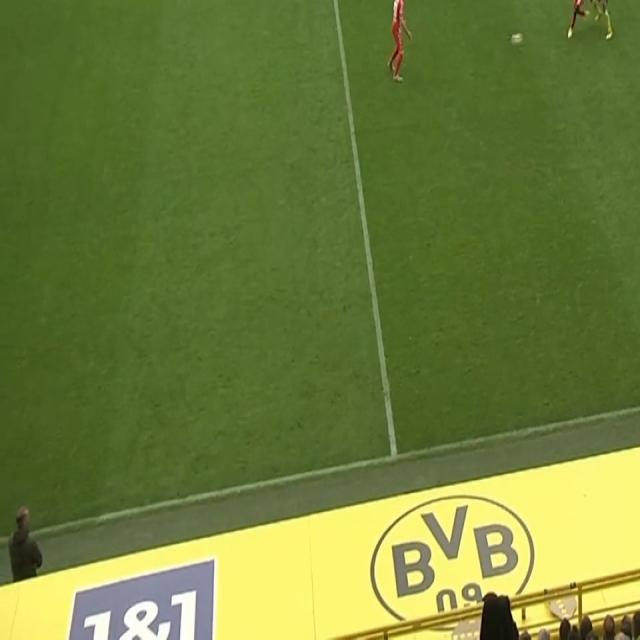ball: (509, 31, 524, 47)
